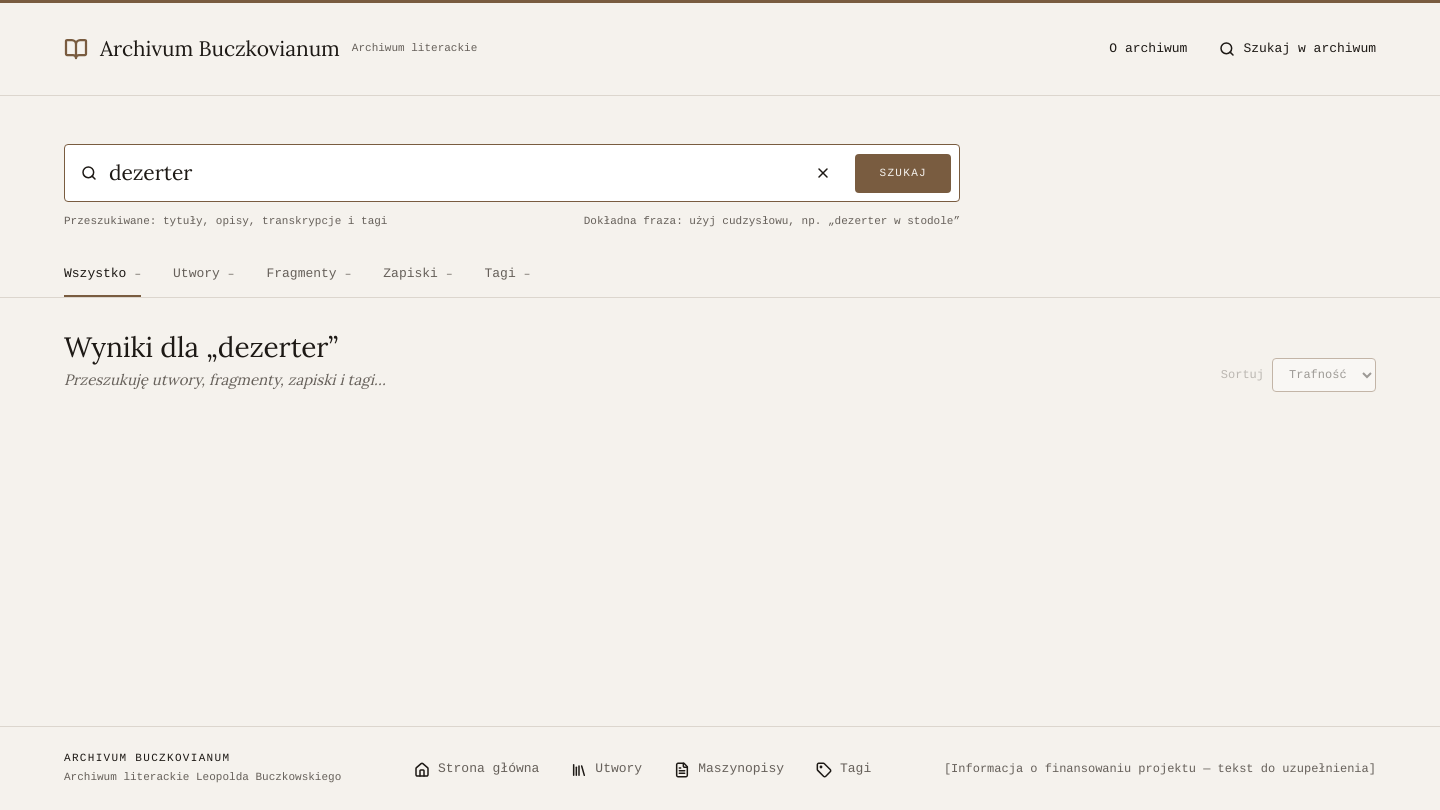
Scenario: SiteLayout › US-RA-14 AC1: a header search on the search page replaces the query
In the dropdown with placeholder "Szukaj w archiwum": point(1310, 49) [1243,41,1376,58], type "potok"
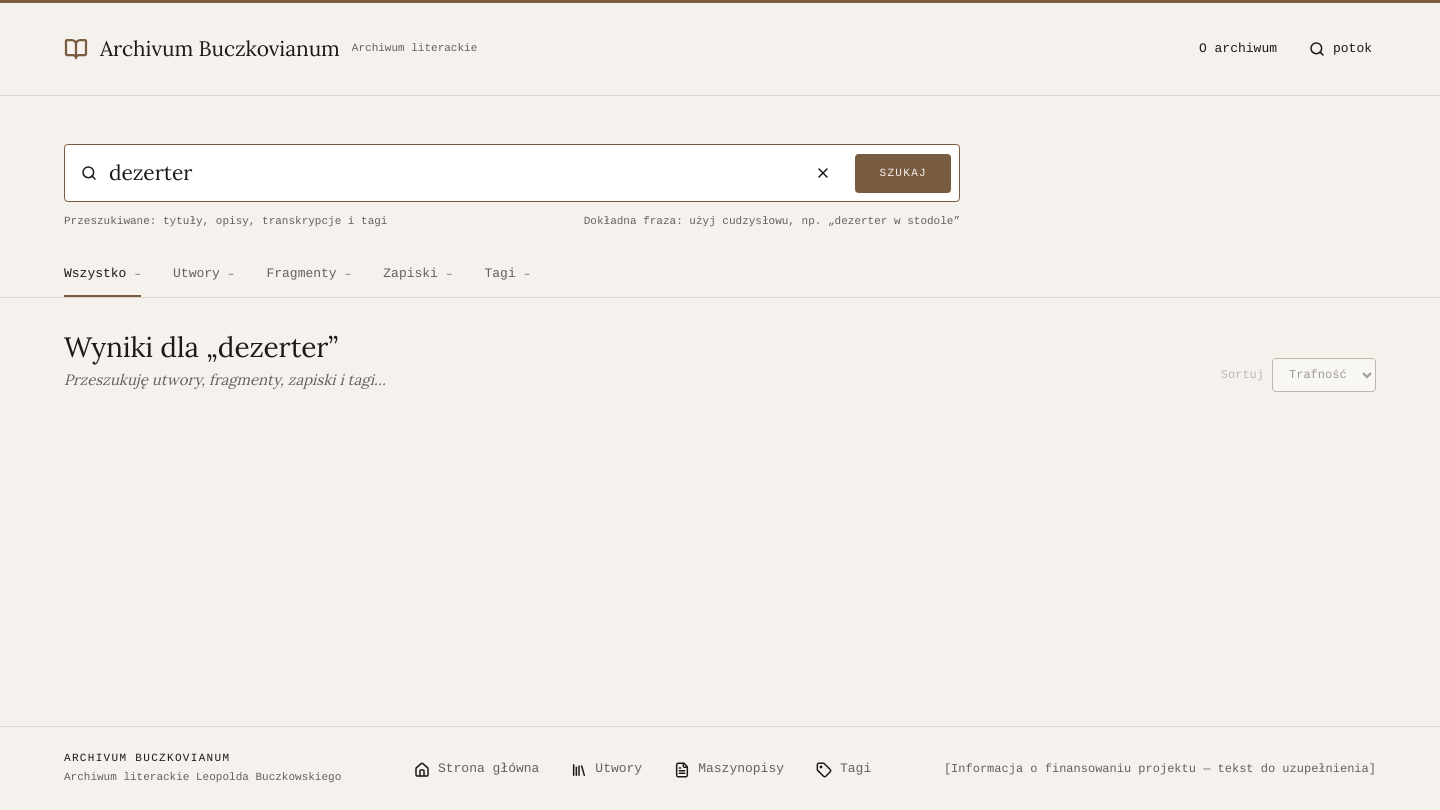
Submit the form named "Szukaj w archiwum", box [1309,41,1376,58]
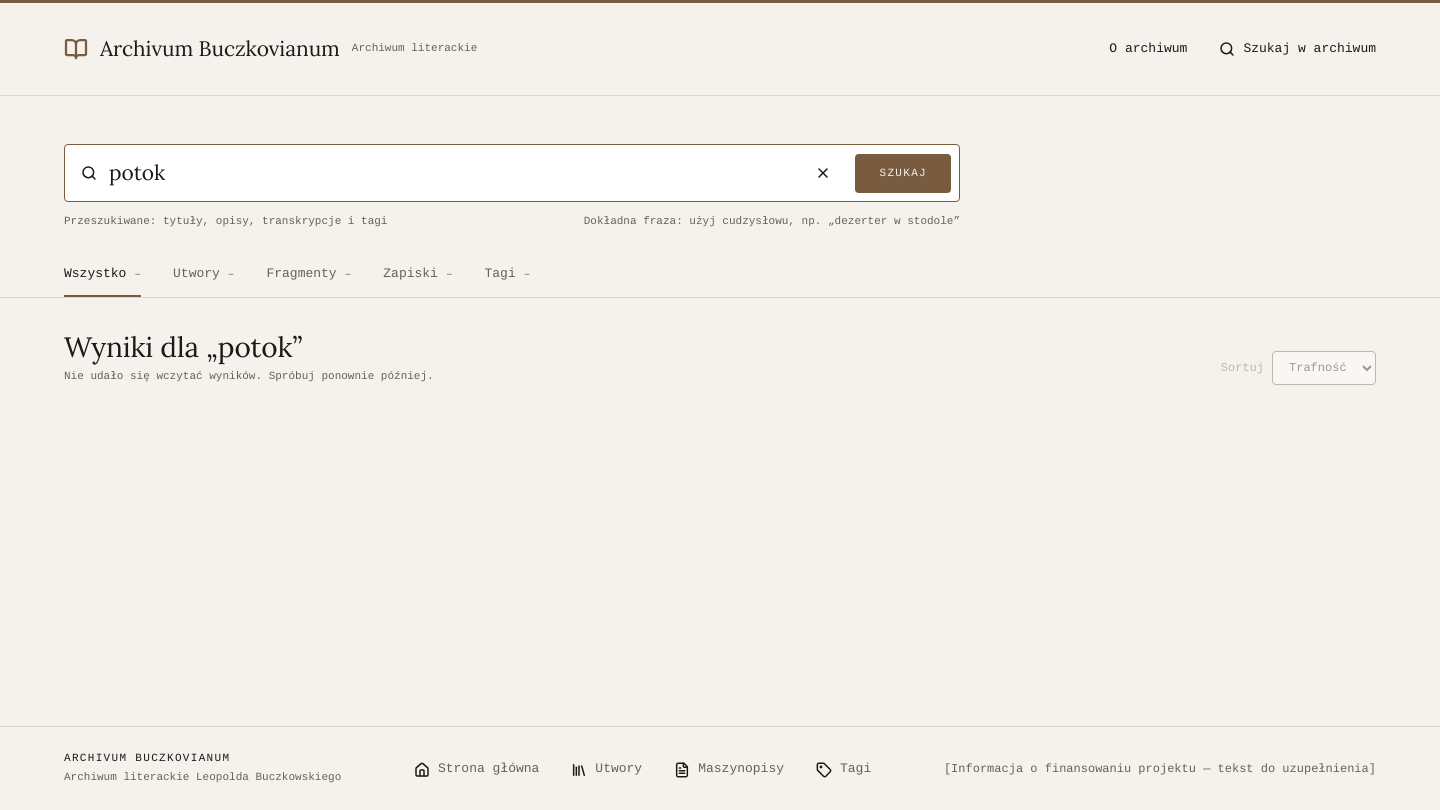
Expected: the dropdown named "Szukaj w archiwum" holds "potok", [109,159,792,188]
